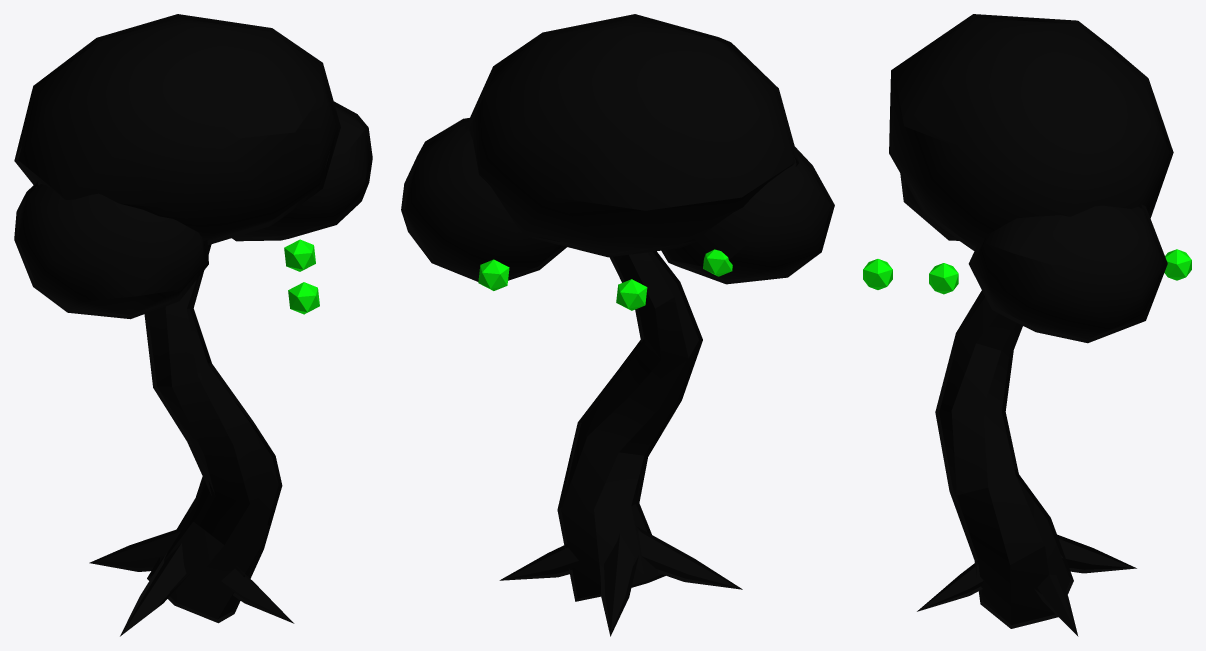
The model's file is SM_Tree_08.fbx.
3 renders of one model, left to right at view 1: azimuth 30°, elevation 25°; view 2: azimuth 150°, elevation 25°; view 3: azimuth 270°, elevation 25°, orthographic. The views are drawn at different scales.
Parts seen in each view (by area): view 1: SM_Tree_08; view 2: SM_Tree_08; view 3: SM_Tree_08.
Boxes of the visible parts, x1=… form: SM_Tree_08: x1=14, y1=14, x2=372, y2=636; SM_Tree_08: x1=401, y1=14, x2=834, y2=636; SM_Tree_08: x1=863, y1=14, x2=1191, y2=636.
Size of the model in its own units: 3.73 by 5.67 by 2.92.
